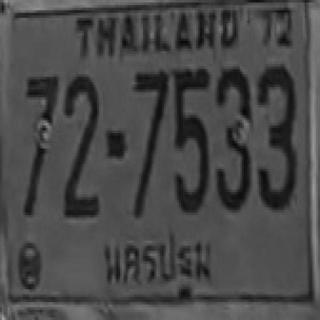N02: (62, 73, 98, 204)
N03: (255, 64, 295, 207), (215, 65, 250, 209)
N05: (172, 68, 209, 211), (172, 68, 209, 165)
N07: (131, 70, 168, 216), (23, 74, 57, 212), (133, 69, 168, 200), (133, 69, 168, 182), (133, 69, 168, 169), (25, 74, 57, 177), (133, 69, 168, 156), (25, 74, 57, 166), (133, 69, 168, 146)
P28: (101, 233, 214, 302)
